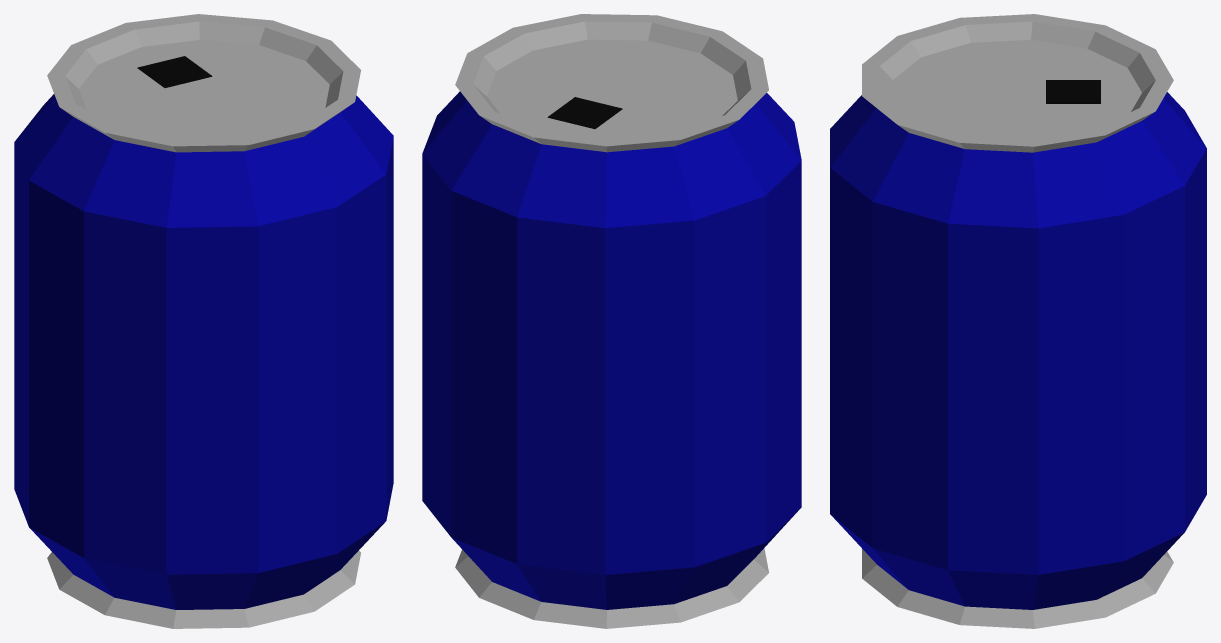
File: EnergyDrink_Item.FBX
The picture shows the model from 3 angles, left to right: view 1: azimuth 30°, elevation 25°; view 2: azimuth 150°, elevation 25°; view 3: azimuth 270°, elevation 25°; orthographic projection.
Parts seen in each view (by area): view 1: EnergyDrink; view 2: EnergyDrink; view 3: EnergyDrink.
Part boxes in pixels (x1,y1,x2,y2): EnergyDrink: [14, 14, 393, 628]; EnergyDrink: [422, 14, 801, 628]; EnergyDrink: [830, 14, 1206, 628].
Bounding box in the file's own units: 78.17 × 110 × 77.6.
